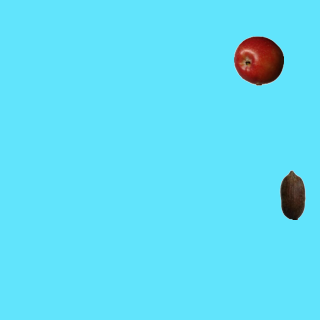Apple Braeburn: (233, 35, 283, 85)
Nut Pecan: (267, 169, 317, 219)
